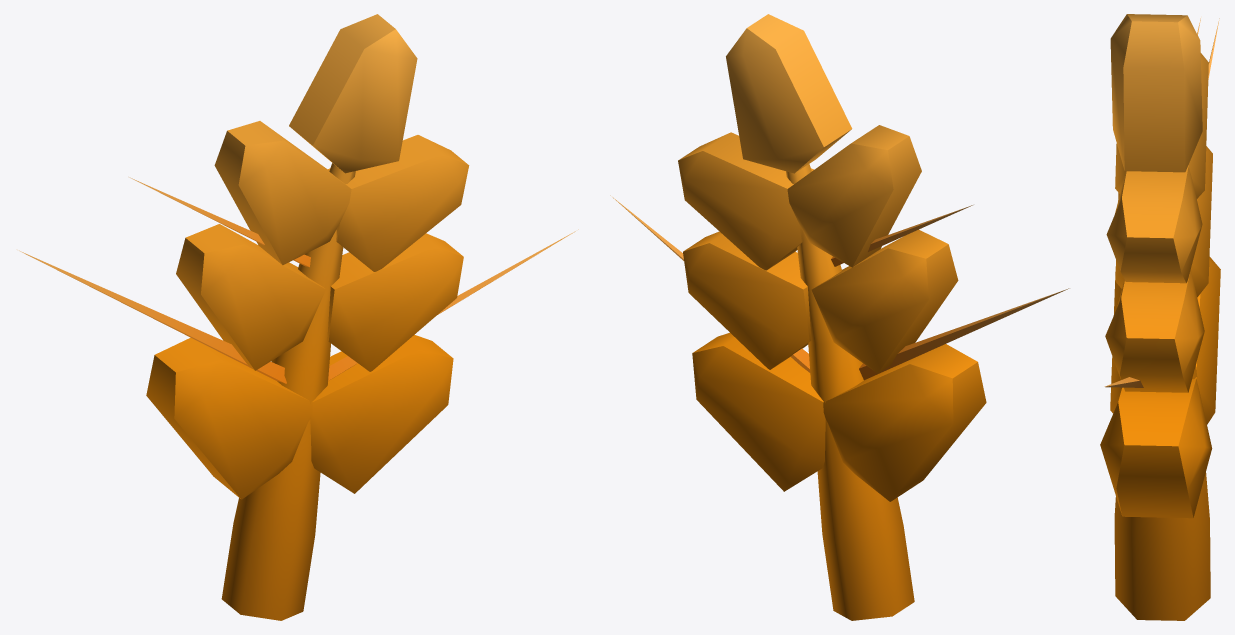
File: Farm_Crop_Wheat_01.fbx
3 views of the same model, side by side, from view 1: azimuth 30°, elevation 25°; view 2: azimuth 150°, elevation 25°; view 3: azimuth 270°, elevation 25° (orthographic). The views are drawn at different scales.
Visible parts, largest first — view 1: Farm_Crop_Wheat_01; view 2: Farm_Crop_Wheat_01; view 3: Farm_Crop_Wheat_01.
Part boxes in pixels (bbox=[...]): Farm_Crop_Wheat_01: bbox=[19, 14, 578, 620]; Farm_Crop_Wheat_01: bbox=[610, 14, 1069, 620]; Farm_Crop_Wheat_01: bbox=[1100, 14, 1220, 620].
Size of the model in its own units: 80.57 by 83.91 by 14.13.
